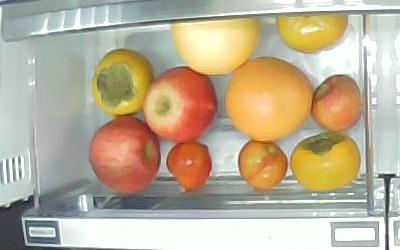apple: (89, 116, 162, 196), (142, 67, 218, 142)
grapefruit: (223, 57, 314, 143), (170, 18, 260, 75)
persimmon: (92, 49, 154, 117), (289, 134, 360, 192), (276, 14, 349, 54)
prune: (310, 72, 361, 132), (235, 139, 288, 190), (165, 141, 212, 192)
